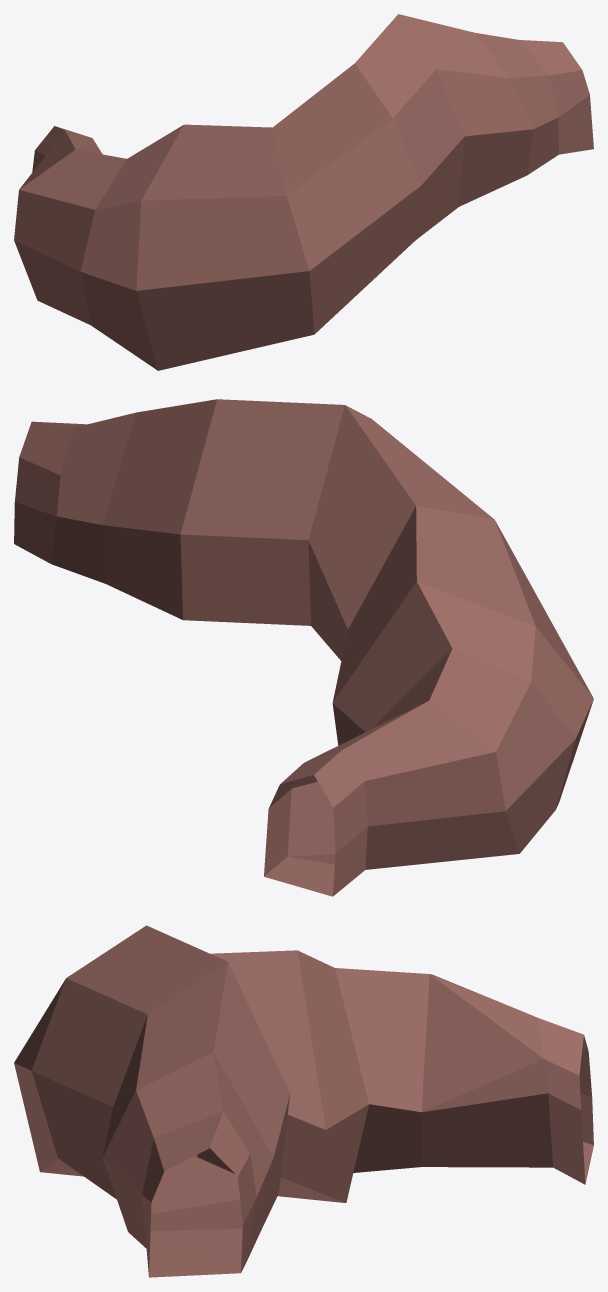
Rendered from Tunnel-B04.fbx.
3 renders of one model, top to bottom at view 1: azimuth 30°, elevation 25°; view 2: azimuth 150°, elevation 25°; view 3: azimuth 270°, elevation 25°, orthographic. The views are drawn at different scales.
Parts seen in each view (by area): view 1: Tunnel-B04; view 2: Tunnel-B04; view 3: Tunnel-B04.
Part boxes in pixels (left/top/right/bottom): Tunnel-B04: left=14, top=14, right=593, bottom=370; Tunnel-B04: left=14, top=399, right=593, bottom=896; Tunnel-B04: left=14, top=925, right=593, bottom=1277.
Size of the model in its own units: 1061 by 1350 by 758.
